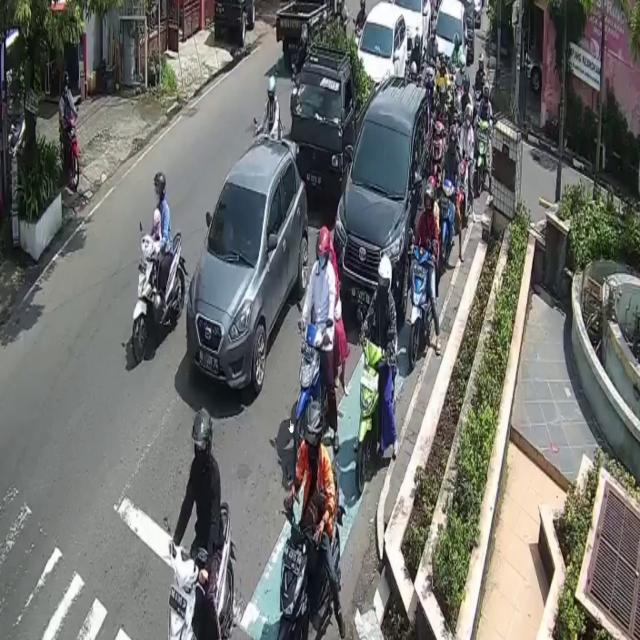car: (188, 131, 308, 393), (341, 77, 434, 322), (290, 42, 376, 200), (358, 0, 409, 84), (274, 0, 338, 60), (434, 0, 468, 95), (394, 0, 431, 58)
motorbike: (277, 483, 339, 640), (166, 499, 234, 640), (129, 231, 189, 364), (355, 340, 385, 493), (295, 324, 327, 436), (410, 243, 433, 361), (63, 112, 82, 190), (476, 118, 494, 186), (442, 174, 457, 252)
